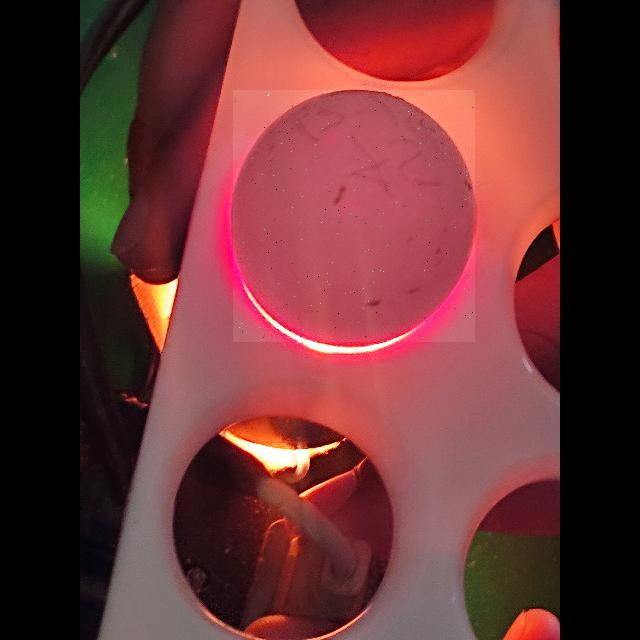Fertile: (233, 90, 475, 342)
